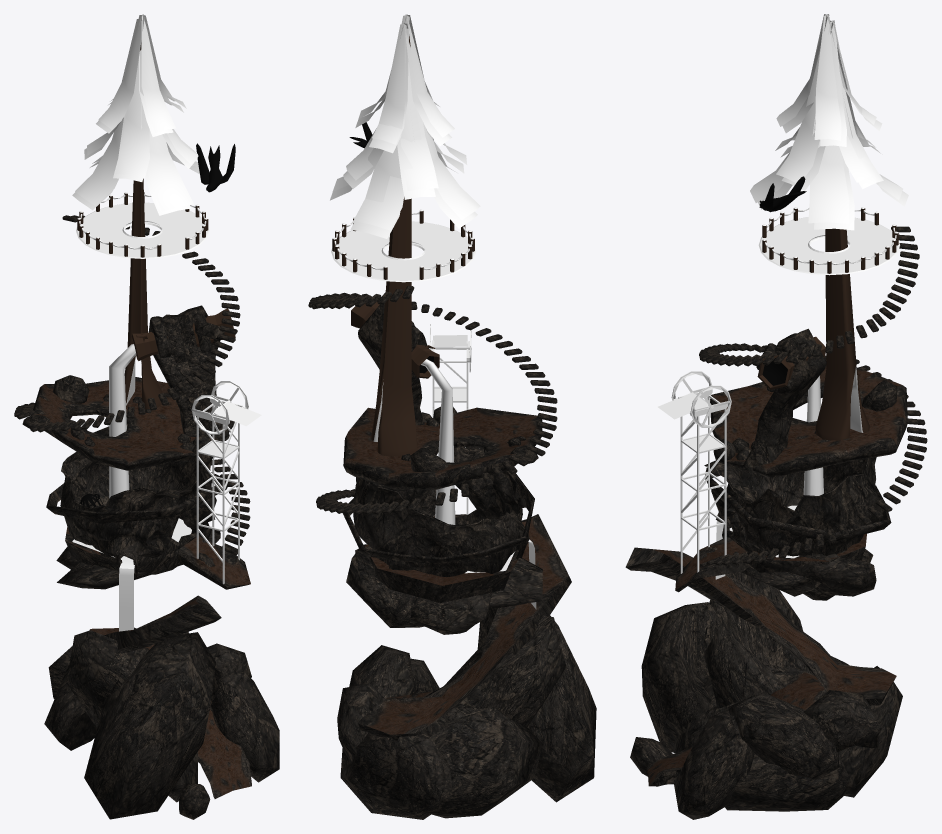
Rendered from LoveDeath_Tower_Art.fbx.
The picture shows the model from 3 angles, left to right: view 1: azimuth 30°, elevation 25°; view 2: azimuth 150°, elevation 25°; view 3: azimuth 270°, elevation 25°; orthographic projection. The views are drawn at different scales.
Visible parts, largest first — view 1: LoveDeath_Tower_Art; view 2: LoveDeath_Tower_Art; view 3: LoveDeath_Tower_Art.
Part boxes in pixels (x1,y1,x2,y2): LoveDeath_Tower_Art: (14, 14, 279, 819); LoveDeath_Tower_Art: (308, 14, 596, 819); LoveDeath_Tower_Art: (625, 14, 927, 819).
Bounding box in the file's own units: 1557 × 5504 × 1920.
